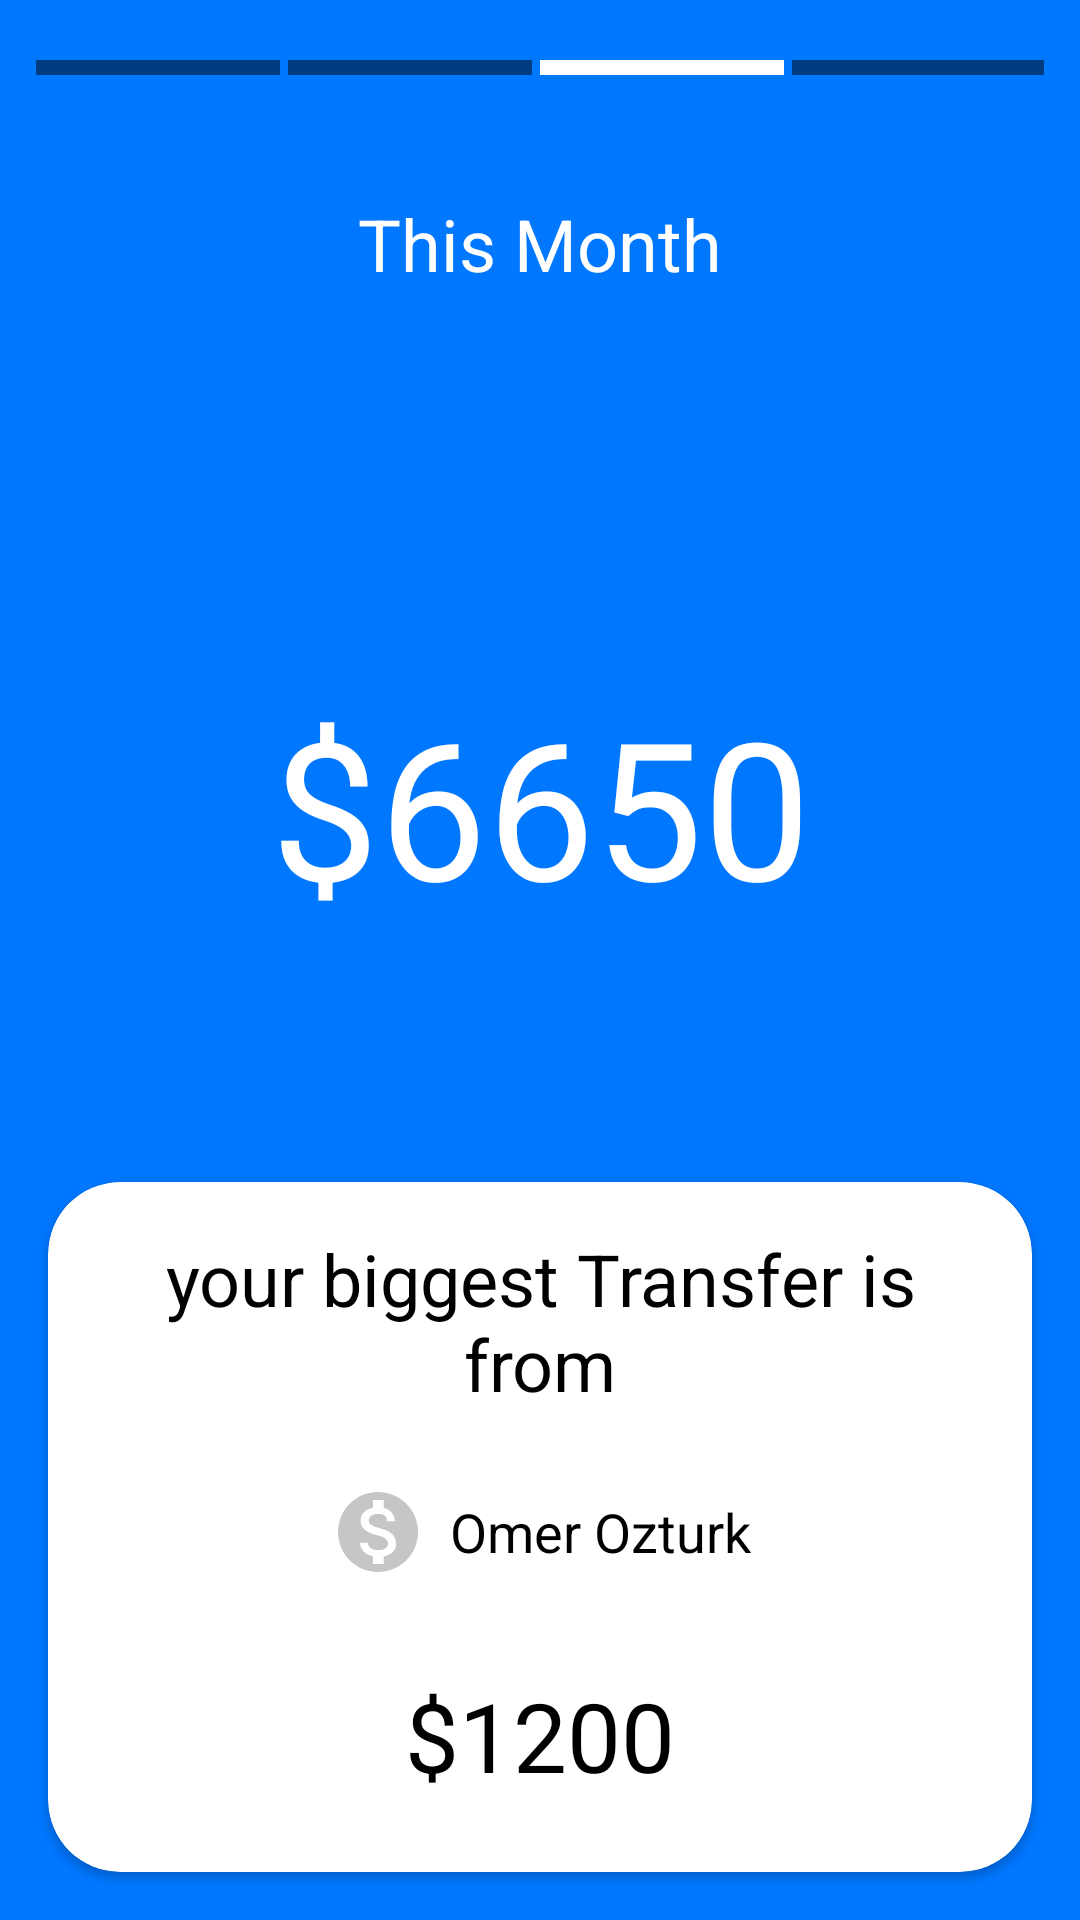

Screen size 1080px x 1920px. Icon name, then its box in pixels as rect(x1, y1, x2, y2):
budget: rect(338, 1492, 418, 1572)
